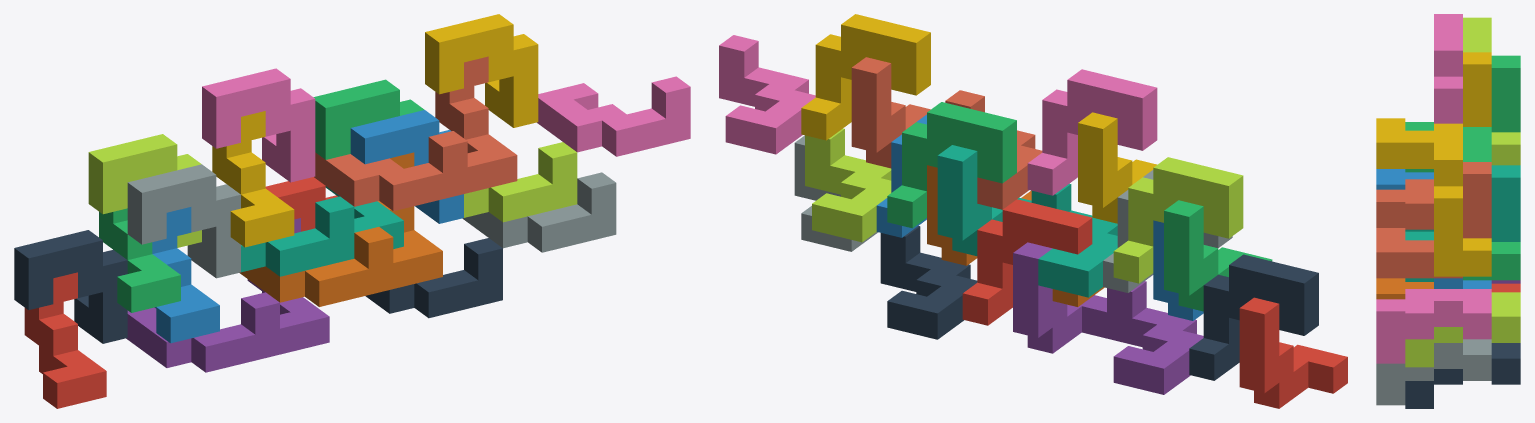
Rendered from tiling.obj.
3 renders of one model, left to right at view 1: azimuth 30°, elevation 25°; view 2: azimuth 150°, elevation 25°; view 3: azimuth 270°, elevation 25°, orthographic.
Visible parts, largest first — view 1: copy_2_domain_8, copy_2_domain_4, copy_3_domain_8, copy_2_domain_1, copy_2_domain_2, copy_3_domain_4, copy_3_domain_1, copy_1_domain_1, copy_3_domain_2, copy_3_domain_6, copy_1_domain_4, copy_3_domain_5 (+12 smaller); view 2: copy_2_domain_4, copy_2_domain_8, copy_2_domain_1, copy_2_domain_3, copy_2_domain_7, copy_2_domain_5, copy_3_domain_8, copy_1_domain_1, copy_3_domain_5, copy_3_domain_1, copy_3_domain_7, copy_1_domain_5 (+11 smaller); view 3: copy_3_domain_8, copy_2_domain_8, copy_1_domain_8, copy_1_domain_4, copy_3_domain_6, copy_2_domain_4, copy_3_domain_7, copy_1_domain_7, copy_1_domain_3, copy_3_domain_4, copy_3_domain_5, copy_2_domain_7 (+5 smaller).
Boxes of the visible parts, x1,y1,x2,y2 form: copy_2_domain_8: (425, 14, 538, 127); copy_2_domain_4: (202, 68, 315, 182); copy_3_domain_8: (537, 76, 690, 156); copy_2_domain_1: (14, 230, 127, 343); copy_2_domain_2: (127, 164, 240, 278); copy_3_domain_4: (314, 131, 467, 211); copy_3_domain_1: (126, 292, 279, 372); copy_1_domain_1: (24, 272, 106, 408); copy_3_domain_2: (239, 227, 393, 306); copy_3_domain_6: (462, 172, 616, 252); copy_1_domain_4: (212, 111, 294, 247); copy_3_domain_5: (365, 238, 502, 318); copy_2_domain_4: (1027, 69, 1157, 195); copy_2_domain_8: (801, 14, 930, 140); copy_2_domain_1: (1189, 254, 1318, 380); copy_2_domain_3: (1113, 157, 1243, 283); copy_2_domain_7: (887, 102, 1016, 228); copy_2_domain_5: (962, 199, 1092, 325); copy_3_domain_8: (719, 35, 815, 154); copy_1_domain_1: (1239, 297, 1347, 408); copy_3_domain_5: (880, 226, 977, 339); copy_3_domain_1: (1107, 281, 1203, 394); copy_3_domain_7: (805, 128, 891, 242); copy_1_domain_5: (1013, 242, 1106, 353); copy_3_domain_8: (1376, 289, 1491, 363); copy_2_domain_8: (1434, 123, 1491, 276); copy_1_domain_8: (1376, 162, 1491, 278); copy_1_domain_4: (1376, 52, 1491, 168); copy_3_domain_6: (1376, 339, 1491, 405); copy_2_domain_4: (1434, 14, 1462, 123); copy_3_domain_7: (1405, 292, 1520, 367); copy_1_domain_7: (1405, 165, 1520, 281); copy_1_domain_3: (1405, 55, 1520, 172); copy_3_domain_4: (1376, 179, 1433, 229); copy_3_domain_5: (1405, 343, 1520, 408); copy_2_domain_7: (1463, 127, 1520, 280).
Bounding box in the file's own units: 25 × 10 × 5.
